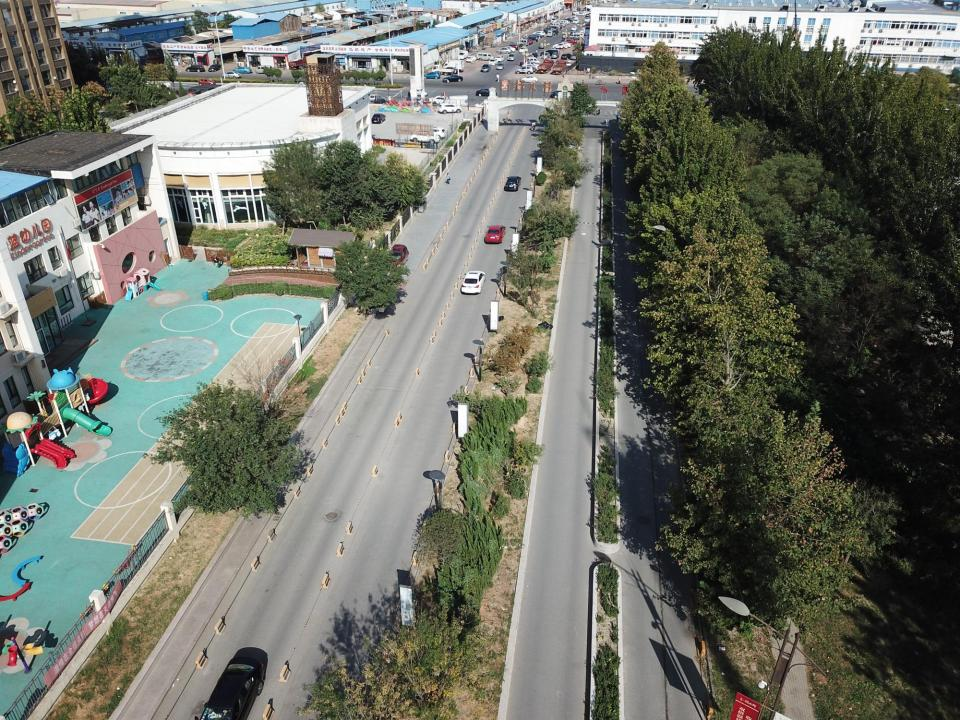car: (194, 645, 270, 720), (386, 244, 410, 270), (461, 270, 485, 294), (410, 131, 440, 145), (484, 224, 506, 243), (418, 126, 446, 139), (437, 102, 462, 114), (505, 176, 522, 192), (475, 88, 497, 97), (442, 74, 464, 83), (428, 95, 448, 104), (371, 112, 385, 124), (222, 71, 242, 79), (233, 66, 252, 74), (520, 76, 538, 84), (515, 66, 533, 74), (186, 64, 204, 72), (198, 78, 216, 86), (373, 96, 390, 104), (365, 94, 382, 102), (422, 72, 440, 79), (496, 47, 513, 54), (341, 70, 360, 76), (522, 61, 538, 68), (208, 64, 222, 72), (480, 63, 491, 72), (561, 53, 573, 60), (466, 55, 476, 63), (503, 46, 516, 52), (506, 44, 518, 50), (496, 62, 504, 70), (509, 43, 519, 49), (542, 52, 550, 59), (495, 55, 504, 61), (489, 59, 497, 65), (551, 52, 559, 58), (571, 54, 579, 60)
truck: (288, 55, 310, 70), (443, 59, 465, 73), (432, 64, 454, 76), (537, 59, 555, 73), (551, 60, 566, 74)
van: (476, 52, 494, 62), (255, 66, 272, 74), (525, 57, 540, 64), (458, 50, 468, 59), (507, 53, 516, 61)
